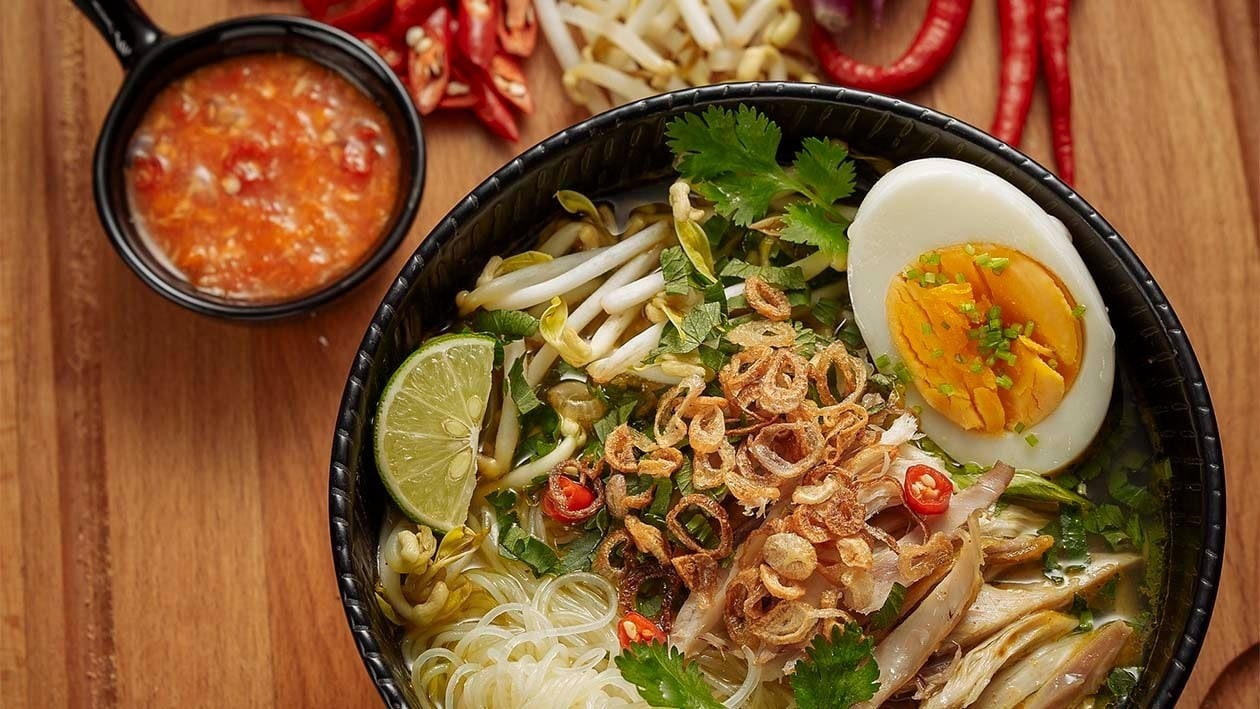soto: (354, 94, 1184, 669)
